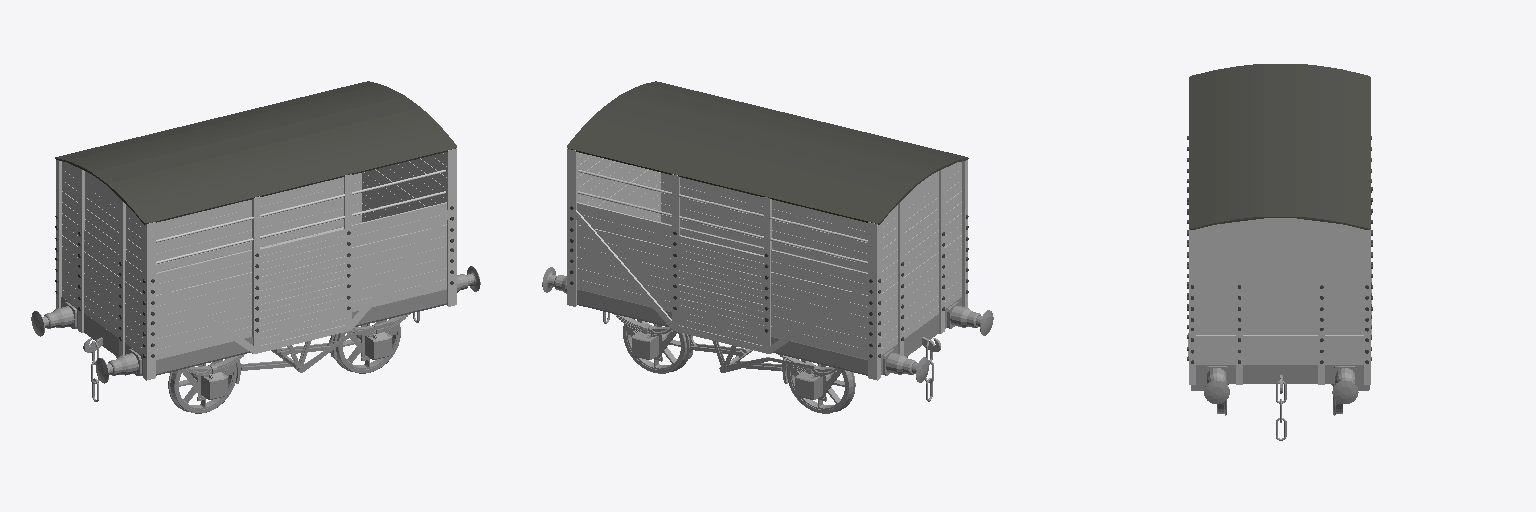
The picture shows the model from 3 angles: view 1: azimuth 30°, elevation 25°; view 2: azimuth 150°, elevation 25°; view 3: azimuth 270°, elevation 25°; orthographic projection.
Visible parts, largest first — view 1: SHELL_Cube.020_Cube.026, SHELL_Cube.006, SHELL.001_Cube.038_Cube.053, Cube.041_Cube.056, FRAME_Cube.150, FRAME_Cube.000, SHELL_Cylinder.045_SHELL_Cylinder.007_SHELL_Cylinder.045_SH.004, Cylinder.002, FRAME_WHEEL_1_Cylinder.016, FRAME_WHEEL_2_Cylinder.002, Rivet.001_Rivet.000_Rivet.001_Rivet.002_Rivet.001_Rivet.000.189, SHELL_Cylinder.045_SHELL_Cylinder.002_SHELL_Cylinder.045_SH.000; view 2: SHELL_Cube.020_Cube.026, SHELL_Cube.006, SHELL.001_Cube.038_Cube.053, Cube.044_Cube.000, FRAME_Cube.150, FRAME_Cube.000, SHELL_Cylinder.045_SHELL_Cylinder.007_SHELL_Cylinder.045_SH.004, Cylinder.002, FRAME_WHEEL_1_Cylinder.016, FRAME_WHEEL_2_Cylinder.002, Rivet.001_Rivet.000_Rivet.001_Rivet.002_Rivet.001_Rivet.000.189, SHELL_Cylinder.045_SHELL_Cylinder.002_SHELL_Cylinder.045_SH.000; view 3: SHELL_Cube.006, SHELL_Cube.020_Cube.026, SHELL.001_Cube.038_Cube.053, FRAME_Cube.000, SHELL_Cylinder.045_SHELL_Cylinder.002_SHELL_Cylinder.045_SH.000, Rivet.001_Rivet.000_Rivet.001_Rivet.002_Rivet.001_Rivet.000.189, SHELL_Cylinder.045_SHELL_Cylinder.007_SHELL_Cylinder.045_SH.004.
Part boxes in pixels (x1,y1,x2,y2): SHELL_Cube.020_Cube.026: (62, 152, 446, 359); SHELL_Cube.006: (55, 81, 456, 224); SHELL.001_Cube.038_Cube.053: (56, 148, 456, 380); Cube.041_Cube.056: (260, 228, 344, 352); FRAME_Cube.150: (181, 314, 409, 400); FRAME_Cube.000: (61, 222, 446, 375); SHELL_Cylinder.045_SHELL_Cylinder.007_SHELL_Cylinder.045_SH.004: (43, 274, 473, 375); Cylinder.002: (156, 170, 445, 263); FRAME_WHEEL_1_Cylinder.016: (116, 356, 236, 413); FRAME_WHEEL_2_Cylinder.002: (336, 318, 400, 373); Rivet.001_Rivet.000_Rivet.001_Rivet.002_Rivet.001_Rivet.000.189: (55, 206, 453, 357); SHELL_Cylinder.045_SHELL_Cylinder.002_SHELL_Cylinder.045_SH.000: (31, 266, 480, 383); SHELL_Cube.020_Cube.026: (577, 152, 961, 359); SHELL_Cube.006: (567, 81, 968, 224); SHELL.001_Cube.038_Cube.053: (567, 148, 967, 380); Cube.044_Cube.000: (679, 235, 763, 352); FRAME_Cube.150: (614, 314, 842, 401); FRAME_Cube.000: (577, 222, 961, 375); SHELL_Cylinder.045_SHELL_Cylinder.007_SHELL_Cylinder.045_SH.004: (548, 275, 981, 375); Cylinder.002: (578, 170, 867, 263); FRAME_WHEEL_1_Cylinder.016: (787, 356, 907, 413); FRAME_WHEEL_2_Cylinder.002: (623, 318, 687, 373); Rivet.001_Rivet.000_Rivet.001_Rivet.002_Rivet.001_Rivet.000.189: (570, 206, 968, 357); SHELL_Cylinder.045_SHELL_Cylinder.002_SHELL_Cylinder.045_SH.000: (542, 267, 993, 382); SHELL_Cube.006: (1189, 64, 1370, 229); SHELL_Cube.020_Cube.026: (1196, 218, 1363, 364); SHELL.001_Cube.038_Cube.053: (1189, 221, 1370, 384); FRAME_Cube.000: (1196, 365, 1363, 383); SHELL_Cylinder.045_SHELL_Cylinder.002_SHELL_Cylinder.045_SH.000: (1204, 380, 1358, 403); Rivet.001_Rivet.000_Rivet.001_Rivet.002_Rivet.001_Rivet.000.189: (1187, 136, 1372, 363); SHELL_Cylinder.045_SHELL_Cylinder.007_SHELL_Cylinder.045_SH.004: (1205, 366, 1356, 385).
Bounding box in the file's own units: 5.92 × 3.49 × 2.53.
14 materials, 1 textured.